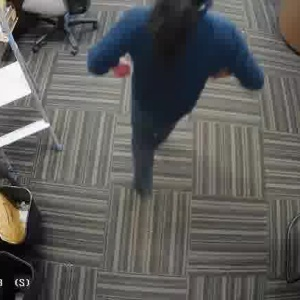person: (106, 0, 262, 182)
